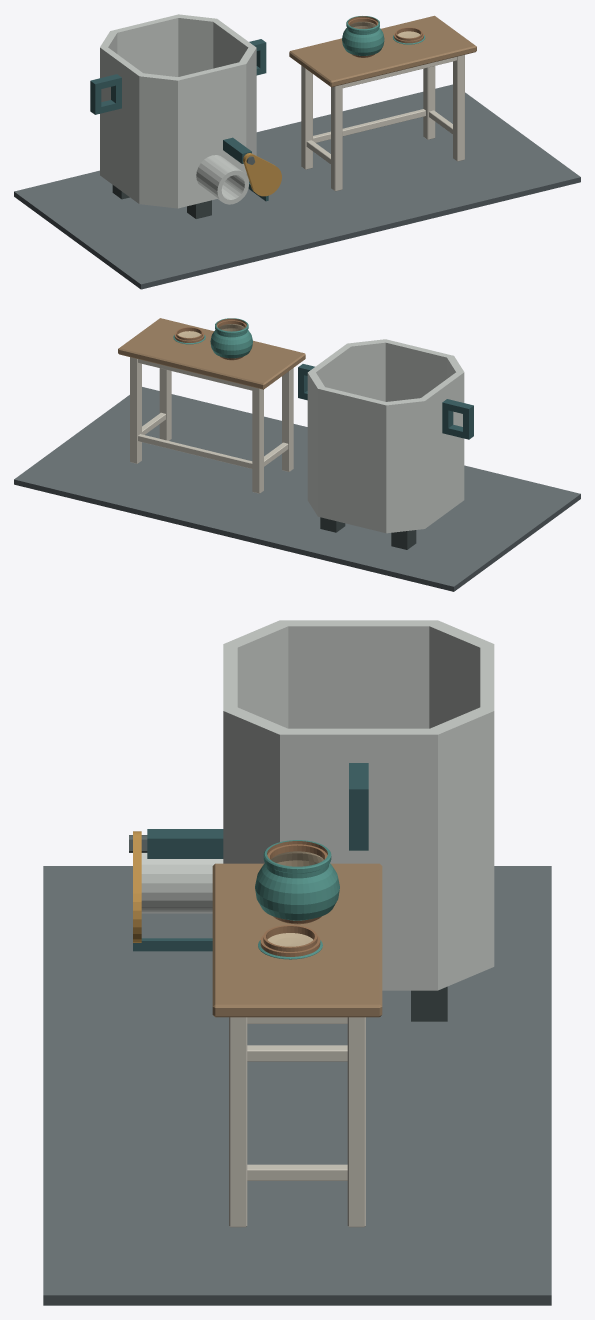
3 views of the same model, one above another, from view 1: azimuth 30°, elevation 25°; view 2: azimuth 150°, elevation 25°; view 3: azimuth 270°, elevation 25° (orthographic). The views are drawn at different scales.
Visible parts, largest first — view 1: SCENE_ONLY__ContainerStagingFloor, tank__WholeOctagonalTankAndIntegralThroughOutlet, table__Complete work surface, jar__Jar_ThickBody, table__Worktable leg, table__Worktable leg.002, table__Worktable leg.001, tank__WholeRoundSideGateWithTrueEarHole, tank__WholeClosedSideLiftEar_-1, table__Worktable leg.003, table__Rear lower brace, table__Upper long apron (+3 smaller); view 2: SCENE_ONLY__ContainerStagingFloor, tank__WholeOctagonalTankAndIntegralThroughOutlet, table__Complete work surface, jar__Jar_ThickBody, table__Worktable leg.001, table__Worktable leg.003, table__Worktable leg, tank__WholeClosedSideLiftEar_-1, table__Rear lower brace, table__Worktable leg.002, table__Upper long apron.001, jar__Lid_IntegralKnobAndSkirt (+2 smaller); view 3: SCENE_ONLY__ContainerStagingFloor, tank__WholeOctagonalTankAndIntegralThroughOutlet, table__Complete work surface, jar__Jar_ThickBody, table__Worktable leg.002, table__Worktable leg.003, tank__WholeUpperPinFoundation, jar__Lid_IntegralKnobAndSkirt, tank__WholeClosedSideLiftEar_1, table__Side lower stretcher, table__Side lower stretcher.001, tank__WholeFlatGroundFoot_2 (+2 smaller).
Part boxes in pixels (bbox=[...]): SCENE_ONLY__ContainerStagingFloor: bbox=[14, 84, 580, 289]; tank__WholeOctagonalTankAndIntegralThroughOutlet: bbox=[100, 14, 256, 208]; table__Complete work surface: bbox=[289, 15, 476, 87]; jar__Jar_ThickBody: bbox=[342, 16, 384, 57]; table__Worktable leg: bbox=[331, 84, 342, 191]; table__Worktable leg.002: bbox=[453, 55, 464, 161]; table__Worktable leg.001: bbox=[301, 65, 312, 169]; tank__WholeRoundSideGateWithTrueEarHole: bbox=[243, 153, 281, 196]; tank__WholeClosedSideLiftEar_-1: bbox=[90, 74, 121, 114]; table__Worktable leg.003: bbox=[423, 66, 435, 139]; table__Rear lower brace: bbox=[313, 109, 425, 142]; table__Upper long apron: bbox=[342, 57, 456, 88]; SCENE_ONLY__ContainerStagingFloor: bbox=[14, 387, 580, 591]; tank__WholeOctagonalTankAndIntegralThroughOutlet: bbox=[307, 339, 464, 533]; table__Complete work surface: bbox=[118, 318, 305, 389]; jar__Jar_ThickBody: bbox=[210, 318, 252, 360]; table__Worktable leg.001: bbox=[252, 387, 263, 493]; table__Worktable leg.003: bbox=[130, 357, 141, 463]; table__Worktable leg: bbox=[282, 368, 293, 471]; tank__WholeClosedSideLiftEar_-1: bbox=[442, 399, 473, 439]; table__Rear lower brace: bbox=[138, 434, 252, 468]; table__Worktable leg.002: bbox=[159, 368, 171, 440]; table__Upper long apron.001: bbox=[138, 359, 252, 390]; jar__Lid_IntegralKnobAndSkirt: bbox=[173, 327, 205, 344]; SCENE_ONLY__ContainerStagingFloor: bbox=[43, 866, 551, 1305]; tank__WholeOctagonalTankAndIntegralThroughOutlet: bbox=[141, 620, 494, 990]; table__Complete work surface: bbox=[212, 863, 382, 1017]; jar__Jar_ThickBody: bbox=[255, 840, 339, 924]; table__Worktable leg.002: bbox=[229, 1017, 247, 1227]; table__Worktable leg.003: bbox=[347, 1017, 365, 1227]; tank__WholeUpperPinFoundation: bbox=[147, 829, 223, 858]; jar__Lid_IntegralKnobAndSkirt: bbox=[258, 925, 322, 959]; tank__WholeClosedSideLiftEar_1: bbox=[349, 763, 368, 850]; table__Side lower stretcher: bbox=[247, 1045, 347, 1061]; table__Side lower stretcher.001: bbox=[247, 1164, 347, 1180]; tank__WholeFlatGroundFoot_2: bbox=[411, 986, 447, 1021].
Bounding box in the file's own units: 3.6 × 1.22 × 1.8.
